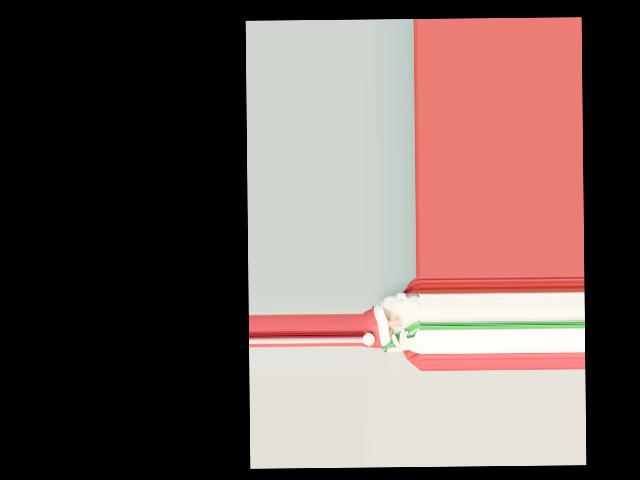beer: (382, 321, 421, 352)
